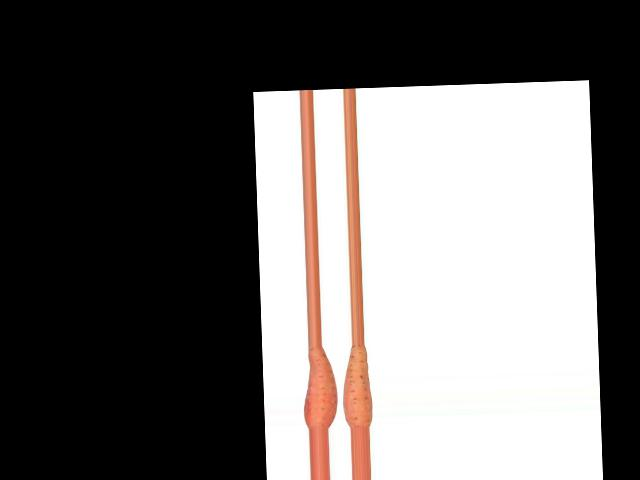sweet_potato: (341, 346, 372, 428)
